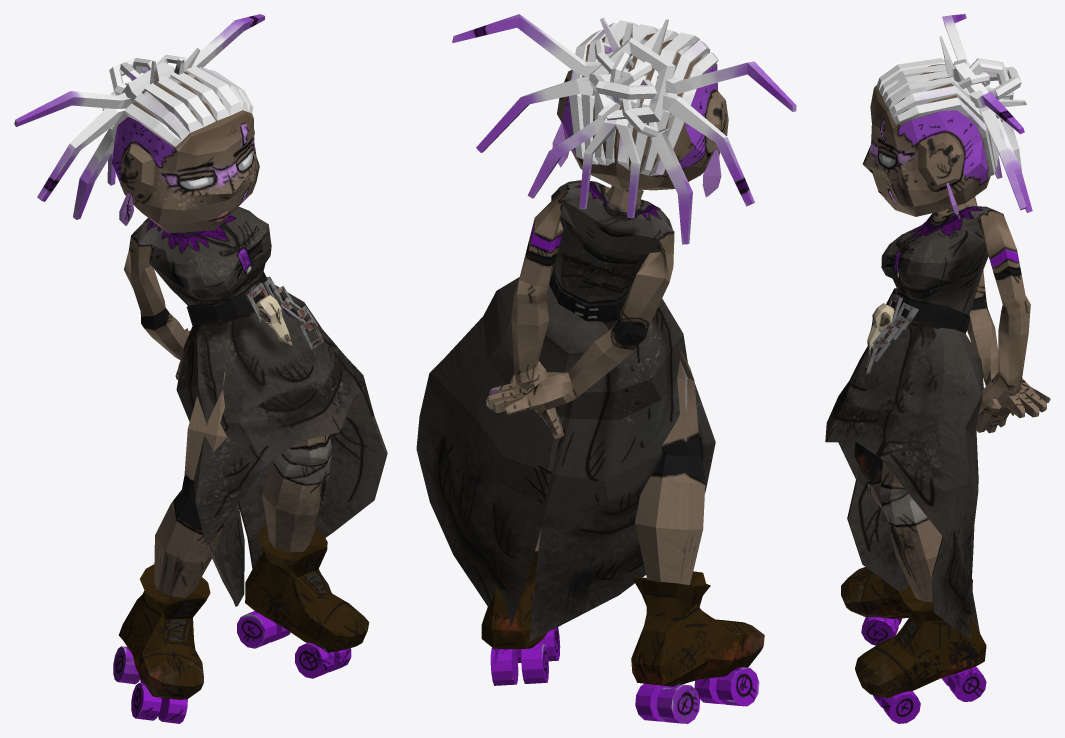
File: bruja_000030.obj
The picture shows the model from 3 angles, left to right: view 1: azimuth 30°, elevation 25°; view 2: azimuth 150°, elevation 25°; view 3: azimuth 270°, elevation 25°; orthographic projection. The views are drawn at different scales.
Visible parts, largest first — view 1: Bruja_Plane.001; view 2: Bruja_Plane.001; view 3: Bruja_Plane.001.
Boxes of the visible parts, box(x1,y1,x2,y2) form: Bruja_Plane.001: box(14, 14, 387, 723); Bruja_Plane.001: box(416, 14, 796, 723); Bruja_Plane.001: box(825, 14, 1050, 723).
Bounding box in the file's own units: 9.37 × 15.98 × 5.31.
